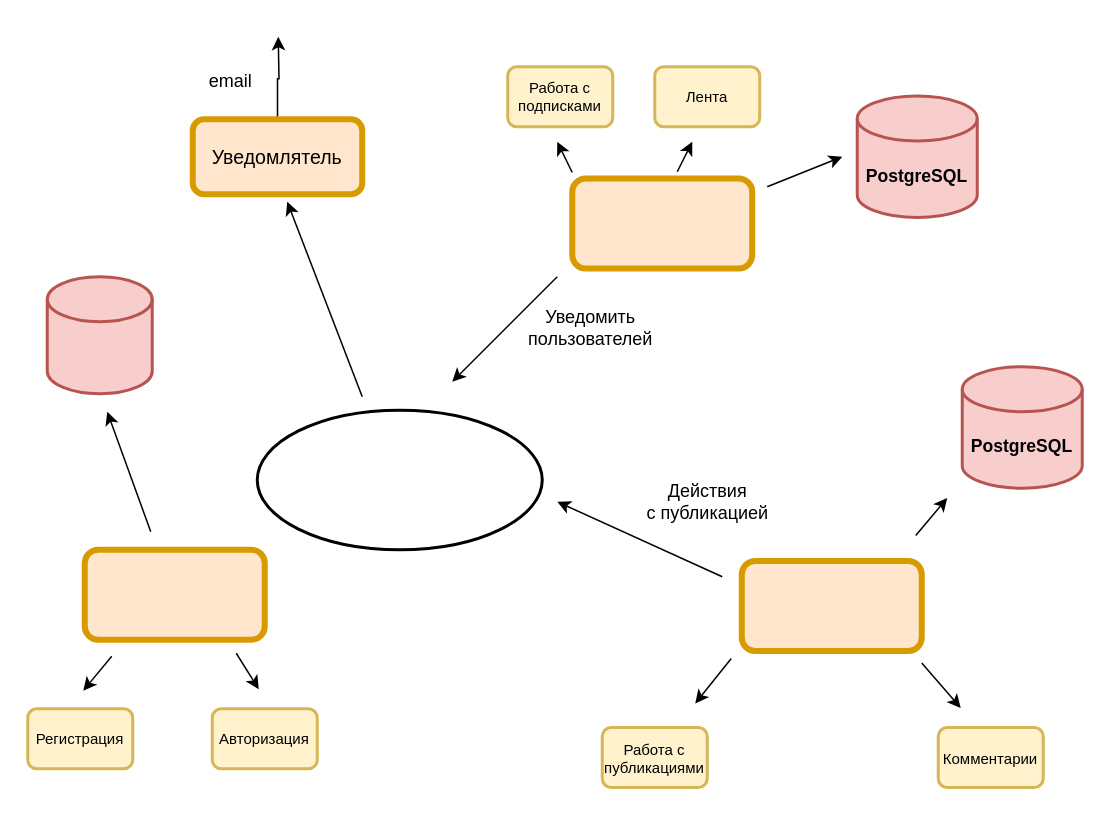
The diagram is 1109 pixels wide and 815 high, and some of its shapes have lost their labels. The centre of each missing label's shape, as x and y in pixels:
"PostreSQL" goes at [99,334].
"RabbitMQ" goes at [399,479].
"Блог" goes at [831,605].
"Подписки" goes at [661,223].
"Пользователи" goes at [174,594].
